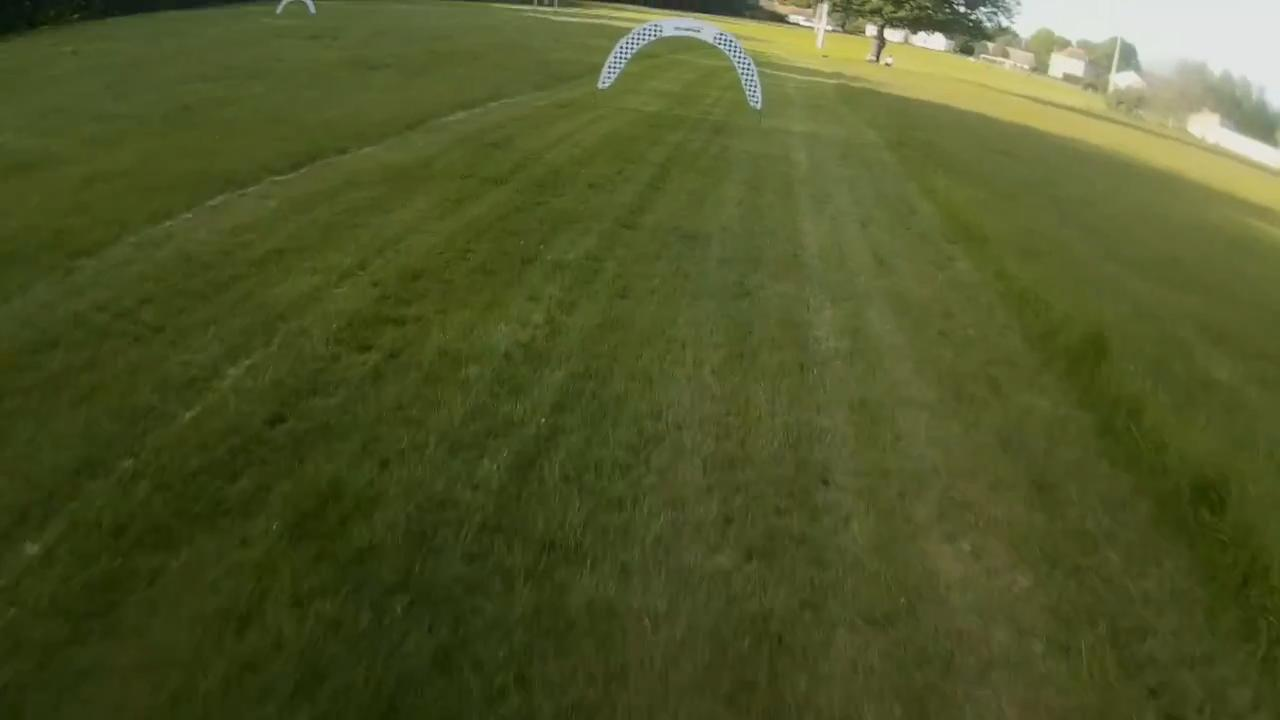gate: (600, 18, 761, 109)
